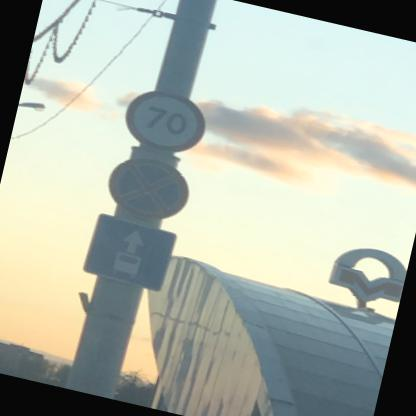speedlimit: (118, 82, 212, 158)
